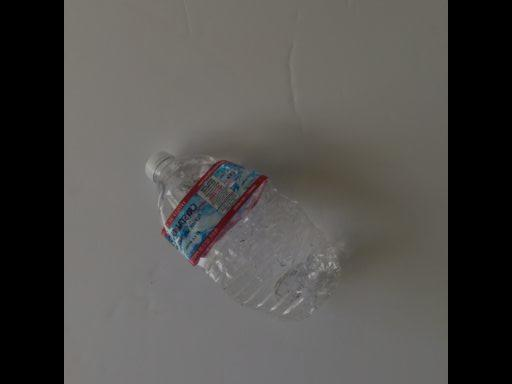plastic: (145, 149, 353, 320)
